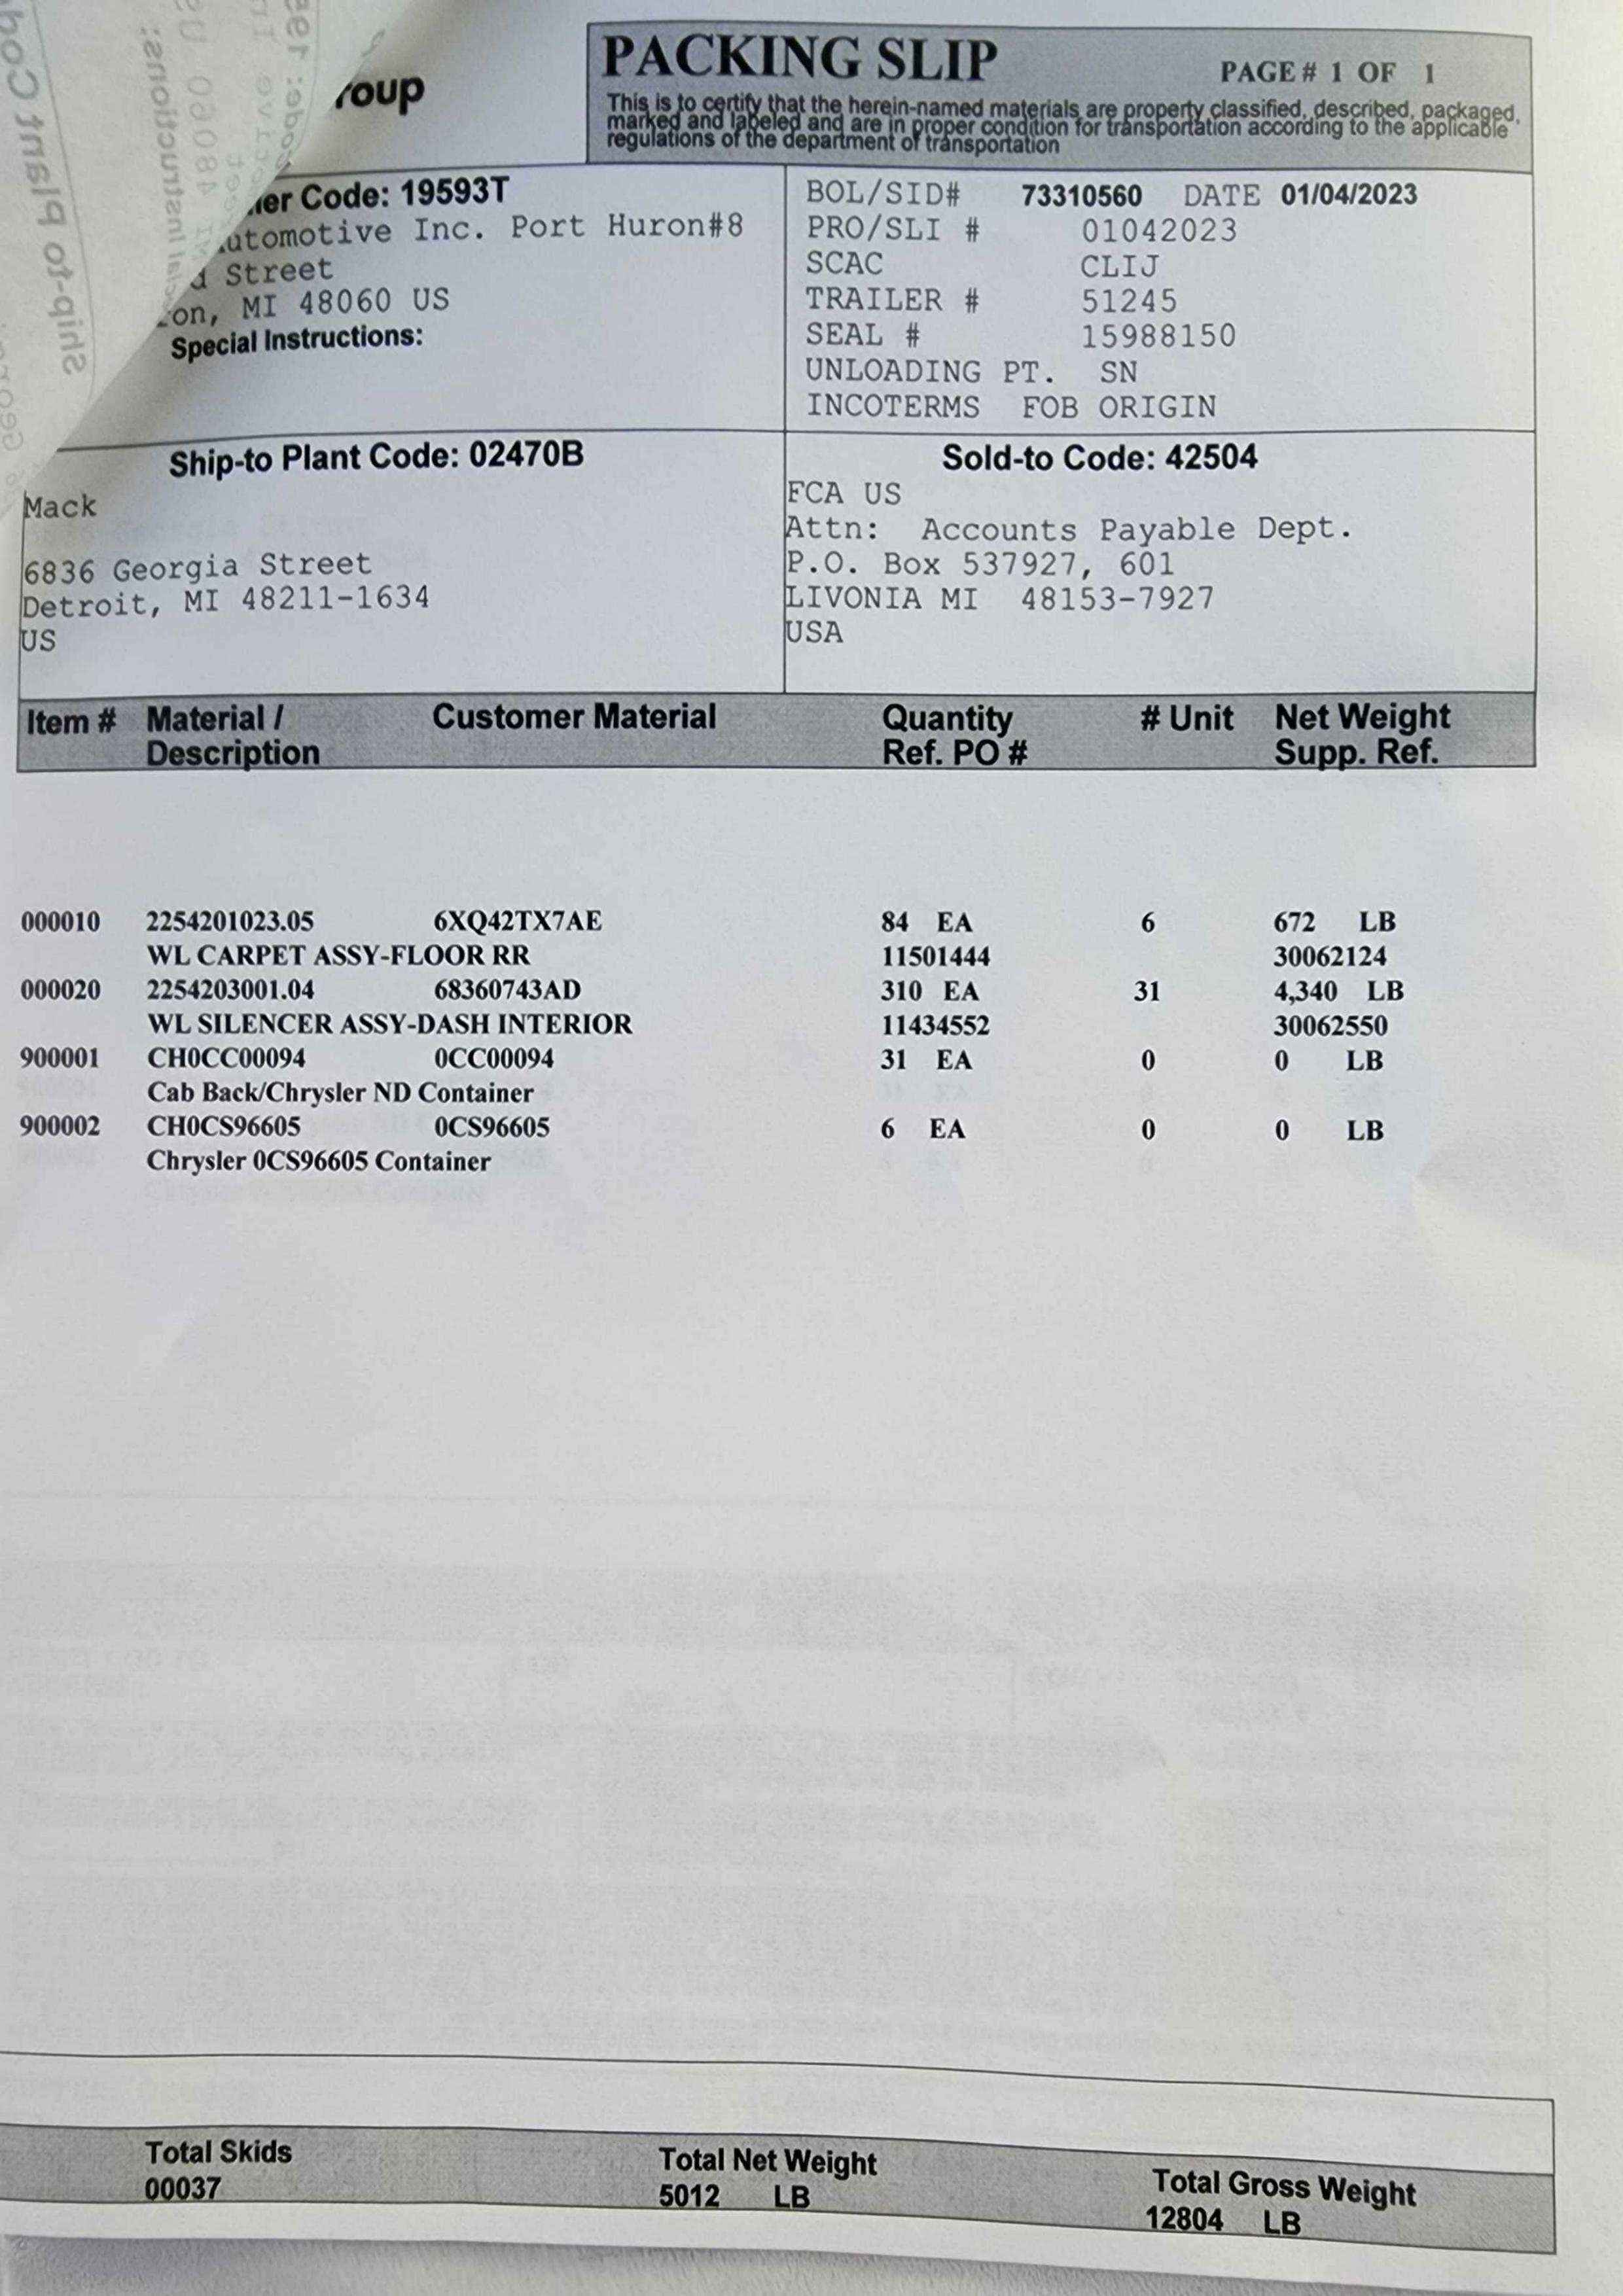B_Paragraph: (114, 2127, 1458, 2250), (794, 172, 1428, 416), (162, 186, 752, 376), (789, 474, 1347, 649), (21, 491, 450, 672), (606, 86, 1519, 160), (167, 435, 594, 483), (940, 435, 1268, 474), (1219, 47, 1446, 93)
B_Table: (16, 702, 1539, 1176)
B_Title: (587, 23, 1015, 91)
